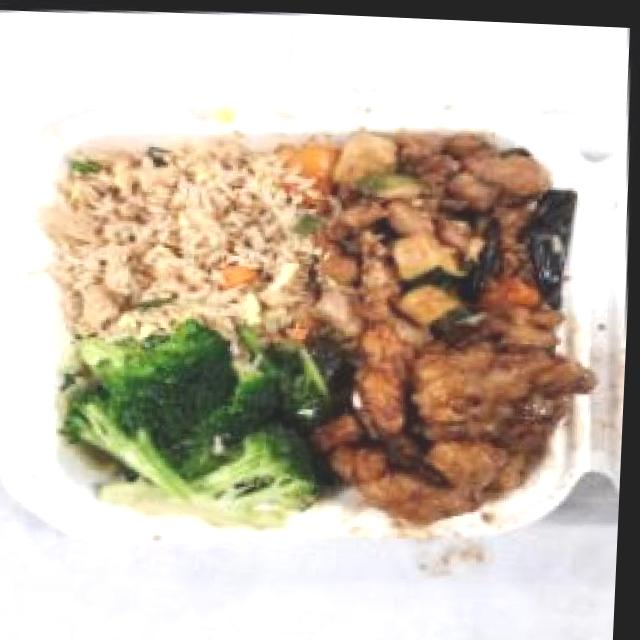Fried Rice: (26, 121, 339, 357)
Kung Pao Chicken: (293, 113, 591, 361)
Super Greens: (42, 305, 352, 539)
The Original Orange Chicken: (295, 296, 613, 540)
